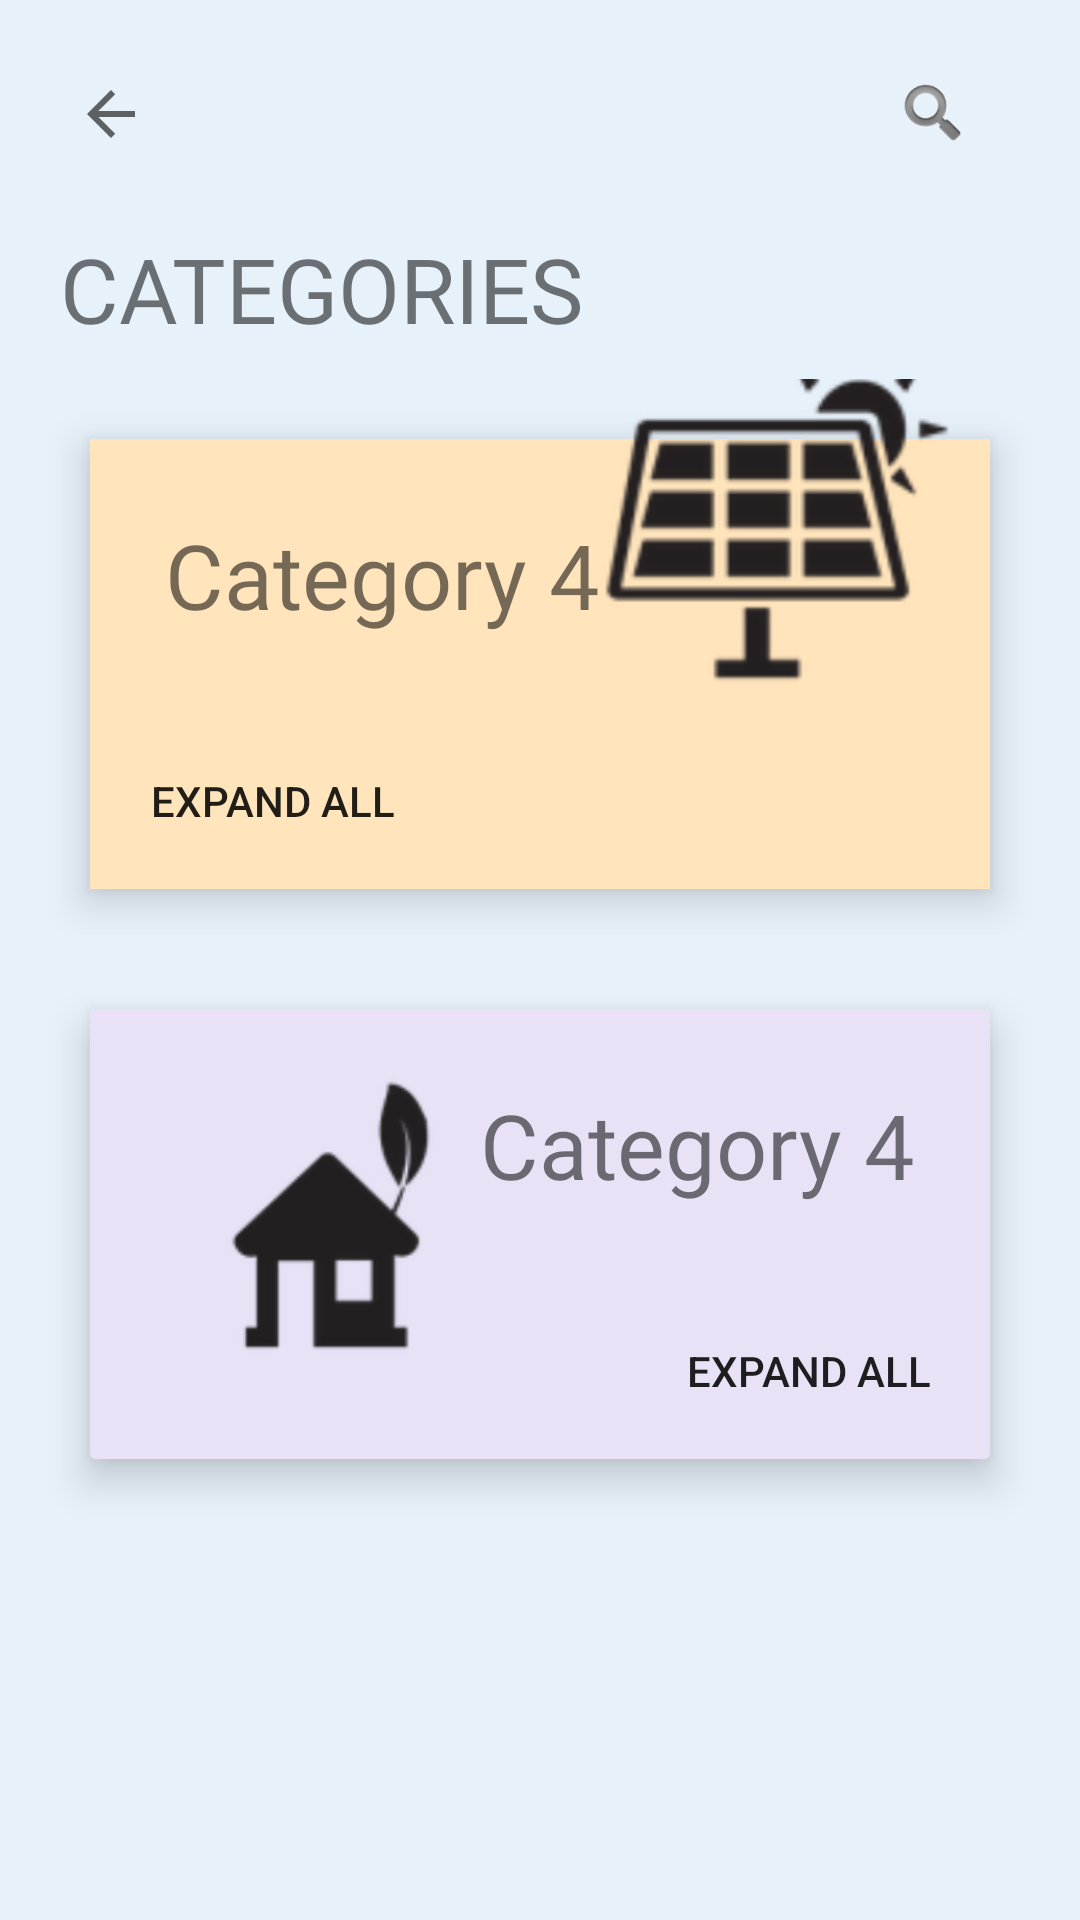

Screen size 1080 x 1920. Icon name, then its box in pixels as [x1=x1, y1=y1, x2=x2, y2=y2]:
search category: [x1=904, y1=84, x2=961, y2=141]
